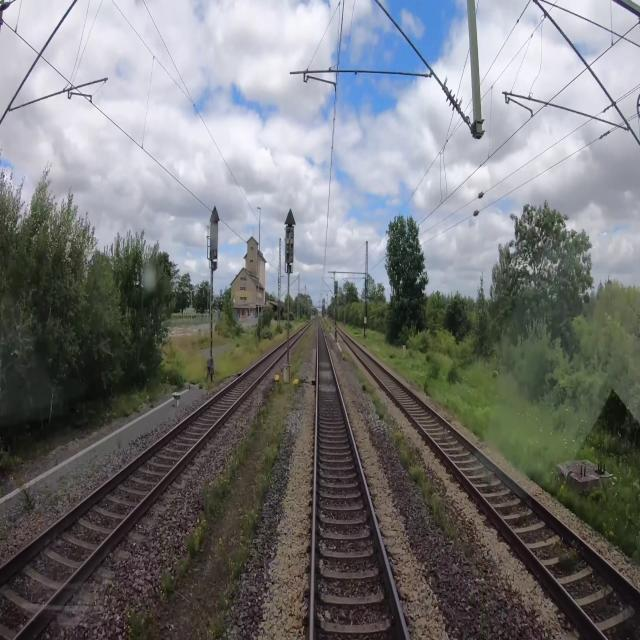Plant: (127, 321, 317, 639), (342, 348, 465, 555), (322, 316, 332, 332)
